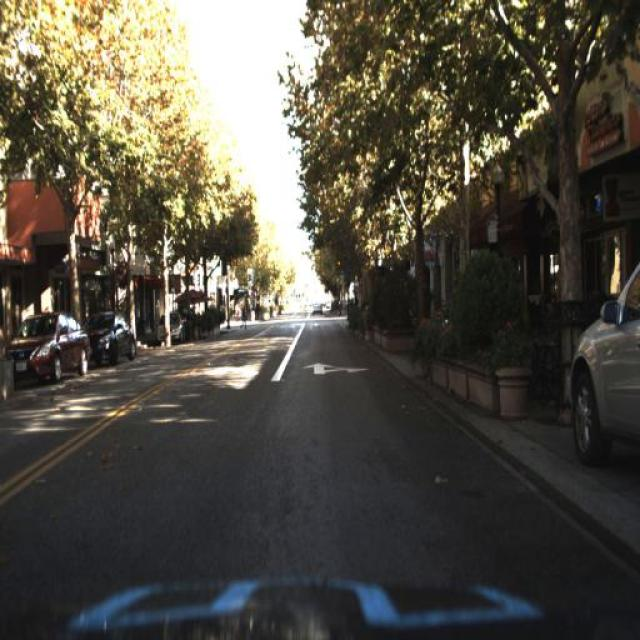car: (567, 255, 640, 476), (2, 310, 90, 390), (83, 305, 137, 361), (154, 311, 190, 348), (158, 308, 182, 341)
trafficLight: (239, 299, 250, 336)
